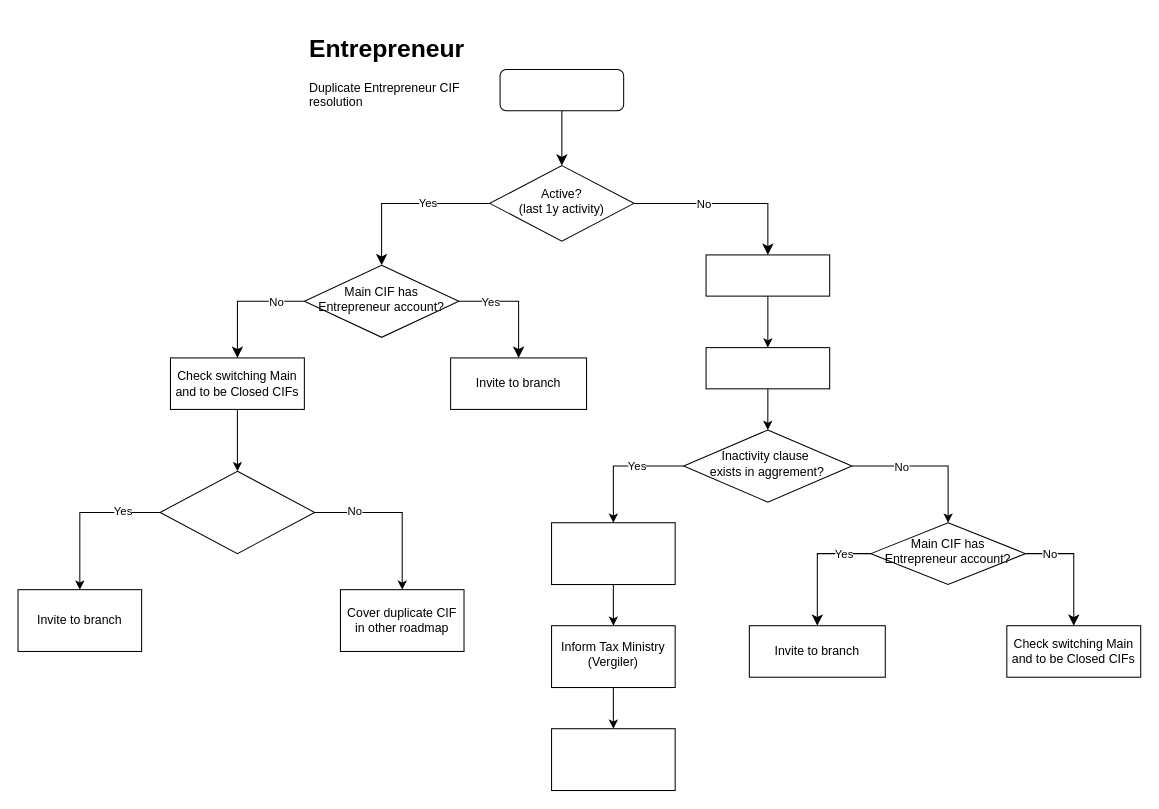
The diagram is 1159 pixels wide and 809 high, and some of its shapes have lost their labels. The centre of each missing label's shape, as x and y in pixels:
Close Account: the point at 613,759
Could be Switched? More difficult products to migrate exists?: the point at 237,512
Duplicate CIF having Entrepreneur Account: the point at 561,89
Inform Customer (via courier delivery - Bildiriş): the point at 613,553
Review aggrements: the point at 767,368
Split accounts by branches: the point at 767,275
